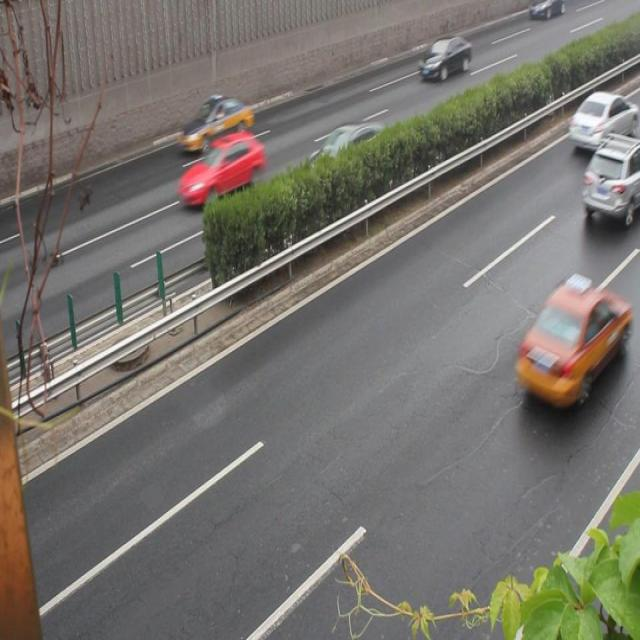car: (515, 280, 627, 400), (178, 129, 264, 215), (305, 119, 388, 208), (580, 135, 640, 218), (570, 89, 640, 153), (178, 96, 253, 153), (418, 34, 468, 77)
